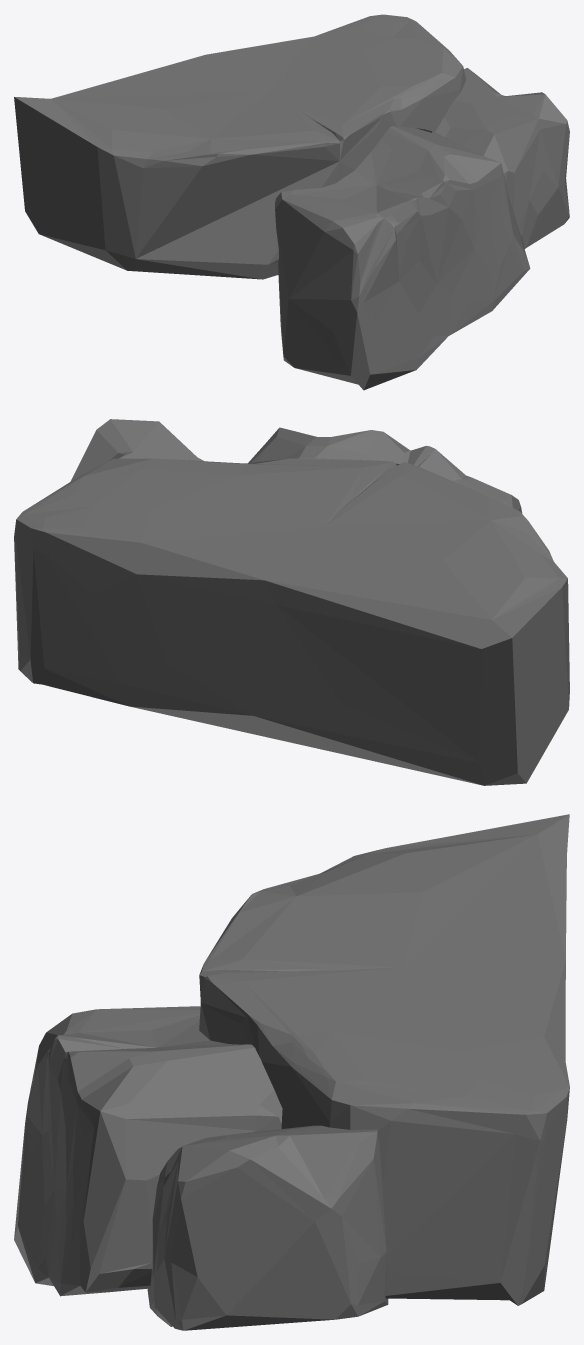
The model's file is Rock_004.glb.
3 renders of one model, top to bottom at view 1: azimuth 30°, elevation 25°; view 2: azimuth 150°, elevation 25°; view 3: azimuth 270°, elevation 25°, orthographic. The views are drawn at different scales.
Visible parts, largest first — view 1: Rock_004; view 2: Rock_004; view 3: Rock_004.
Boxes of the visible parts, x1,y1,x2,y2 form: Rock_004: (14,14,569,390); Rock_004: (14,419,569,785); Rock_004: (14,814,569,1330).
Bounding box in the file's own units: 8.29 × 3.8 × 6.14.
1 material, 1 textured.
